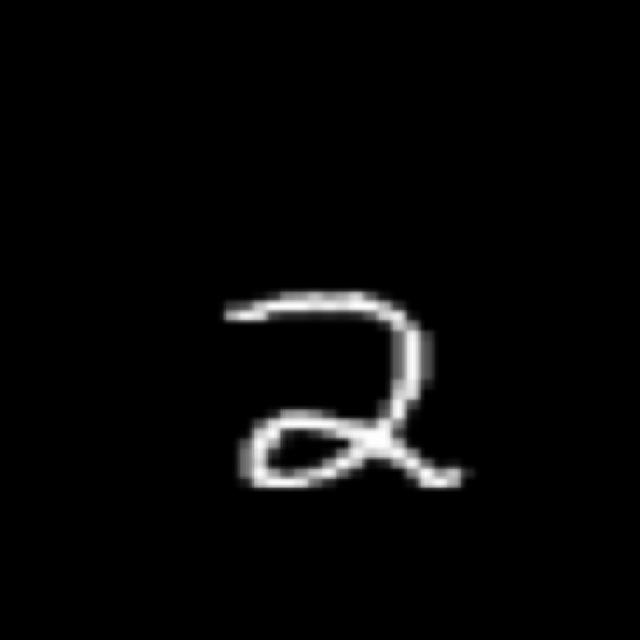two -2-: (213, 283, 480, 499)
